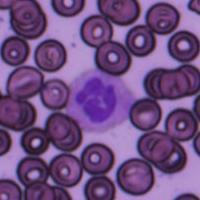N: (66, 68, 134, 132)
